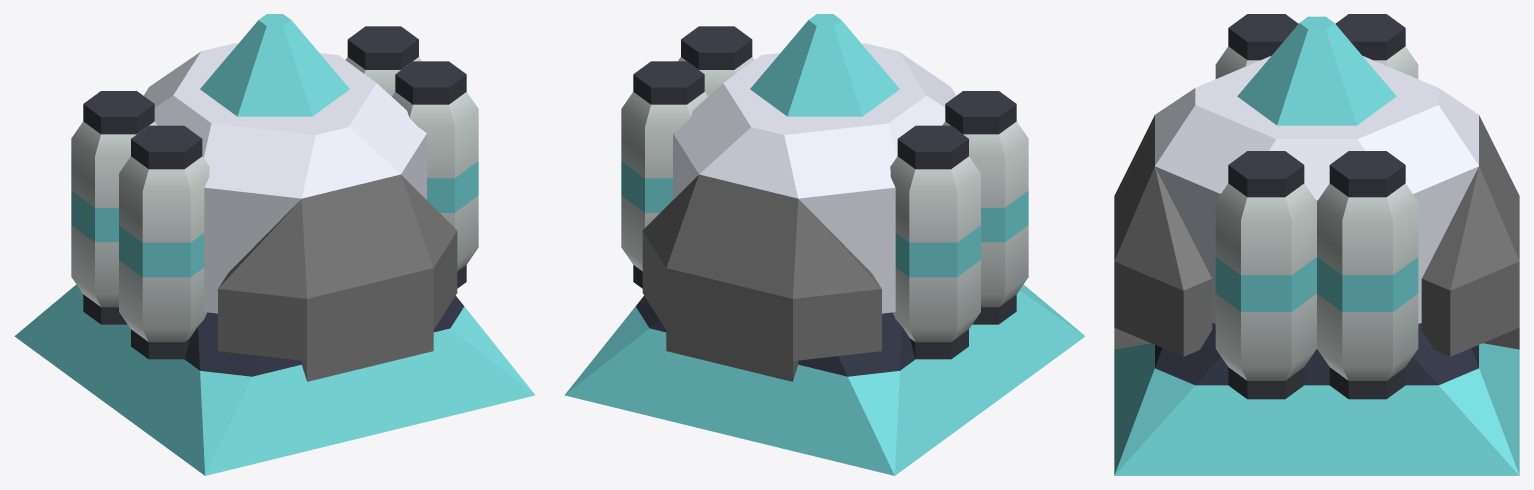
File: slowBase.fbx
3 renders of one model, left to right at view 1: azimuth 30°, elevation 25°; view 2: azimuth 150°, elevation 25°; view 3: azimuth 270°, elevation 25°, orthographic. The views are drawn at different scales.
Parts seen in each view (by area): view 1: mergedBlocks; view 2: mergedBlocks; view 3: mergedBlocks.
Part boxes in pixels (box(x1,y1,x2,y2)): mergedBlocks: box(14, 14, 534, 475); mergedBlocks: box(565, 14, 1085, 475); mergedBlocks: box(1114, 14, 1519, 475).
Bounding box in the file's own units: 10.17 × 10 × 10.
